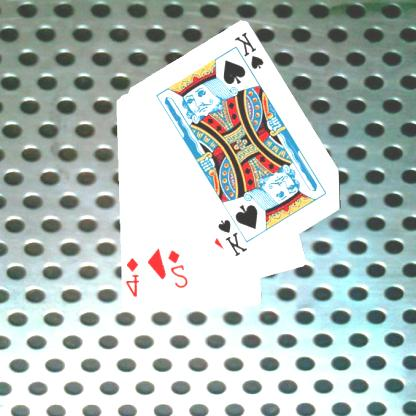2D: (166, 247, 191, 290)
4D: (124, 255, 141, 299)
KS: (232, 30, 267, 79), (217, 217, 250, 258)
